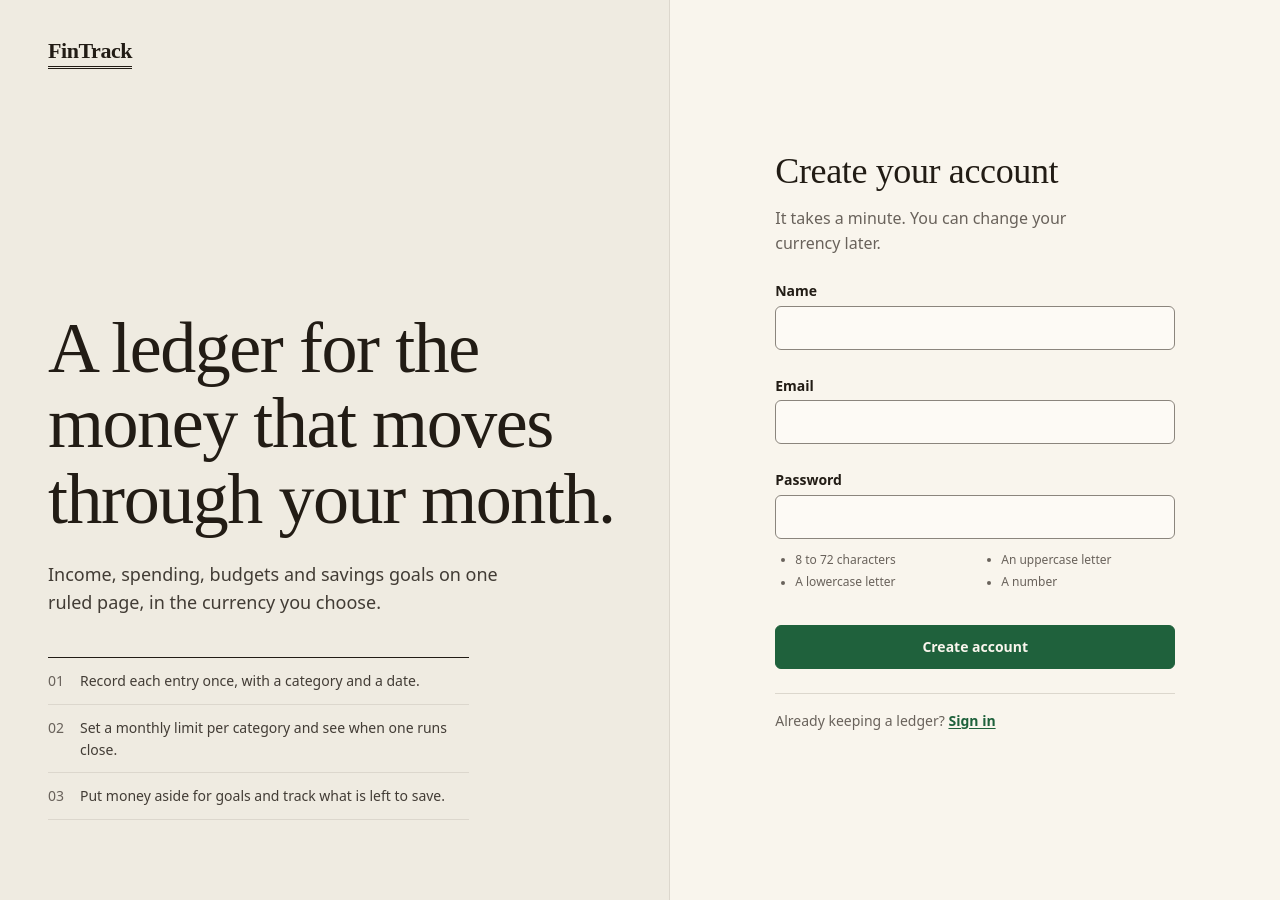
register form › shows a live password checklist and blocks a weak password
The image size is (1280, 900).
In the field labelled "Name": x=975, y=328 [775, 306, 1175, 350], type "Sam Tan"
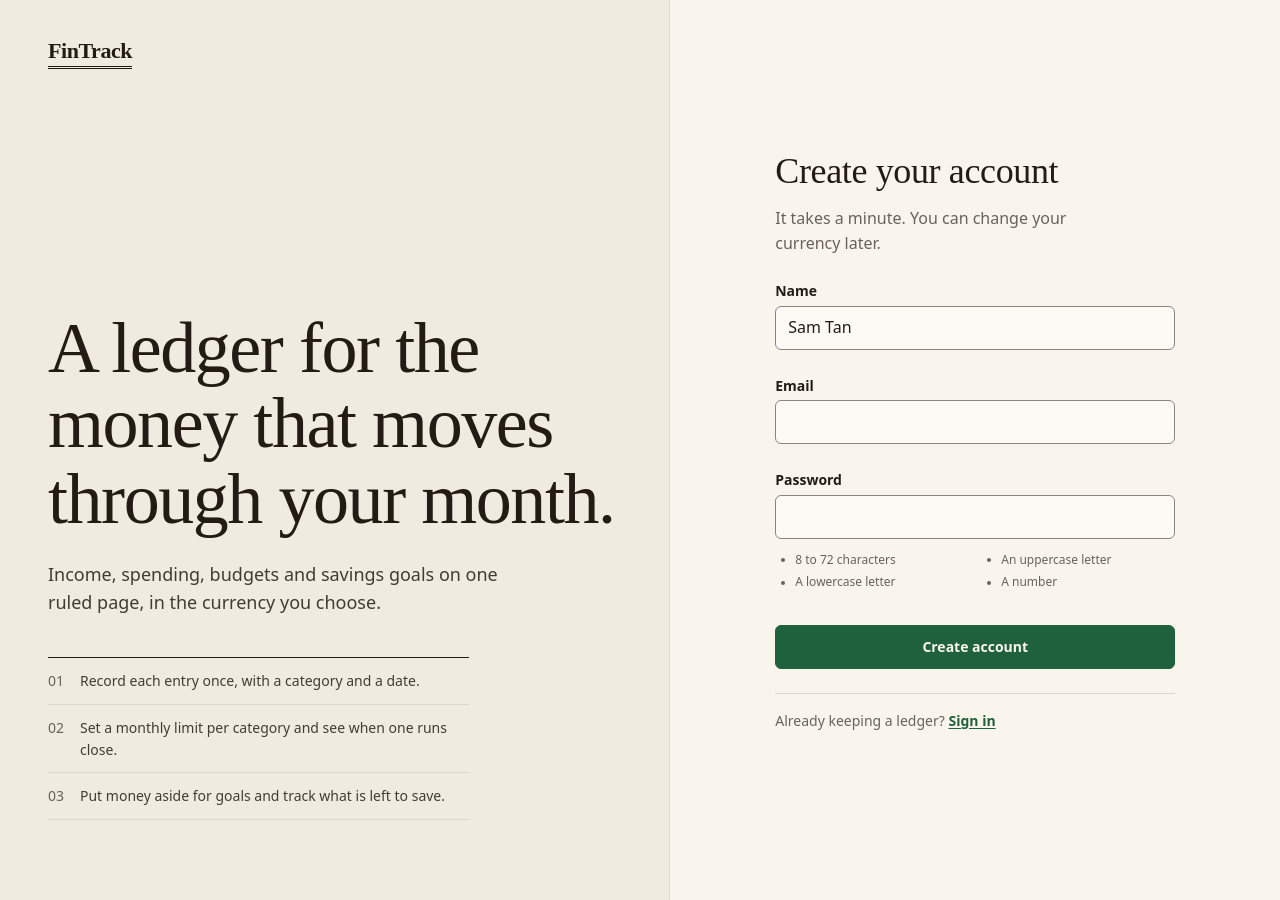
In the field labelled "Email": x=975, y=422 [775, 400, 1175, 444], type "sam@example.in"
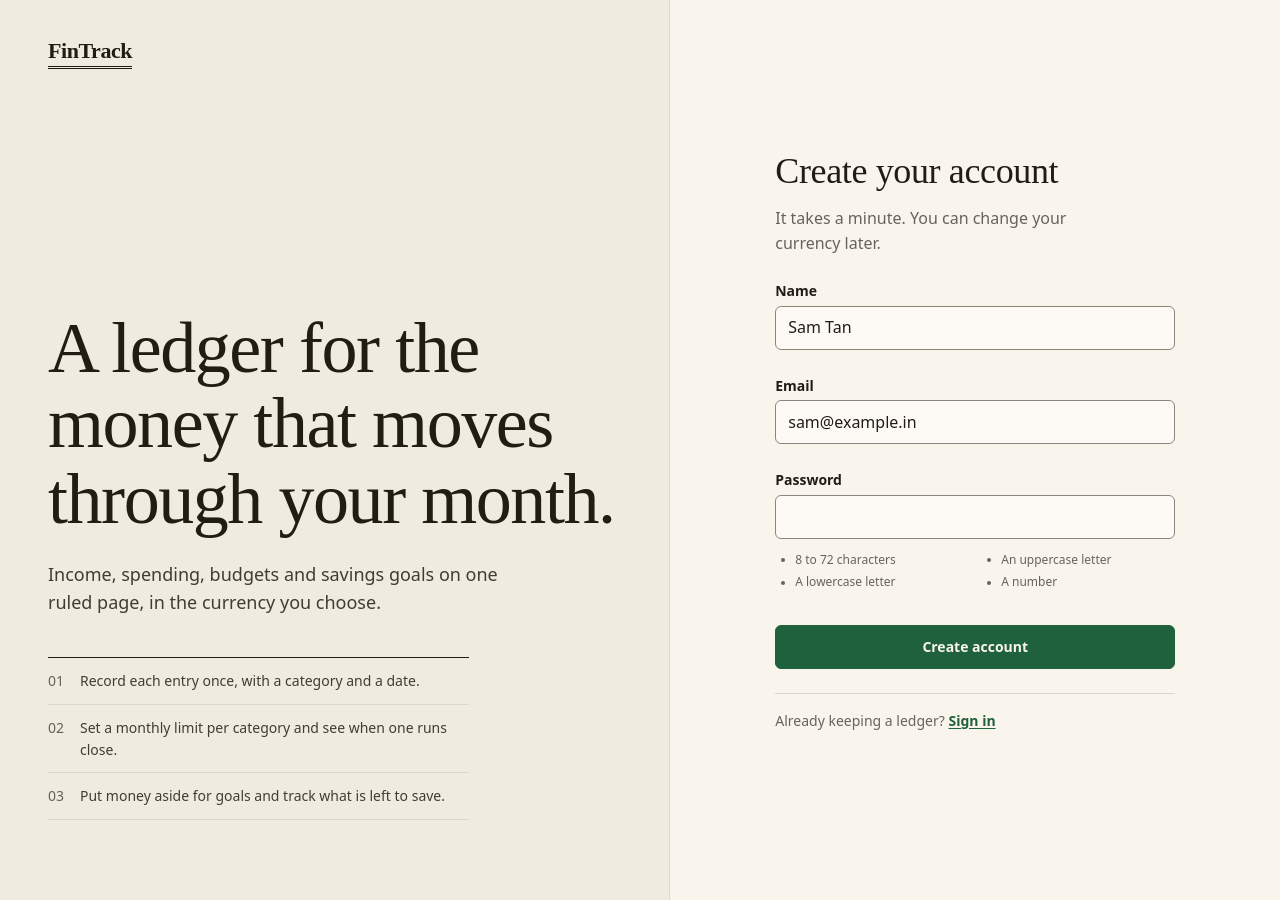
In the password field labelled "Password": x=975, y=517 [775, 495, 1175, 539], type "ledger"
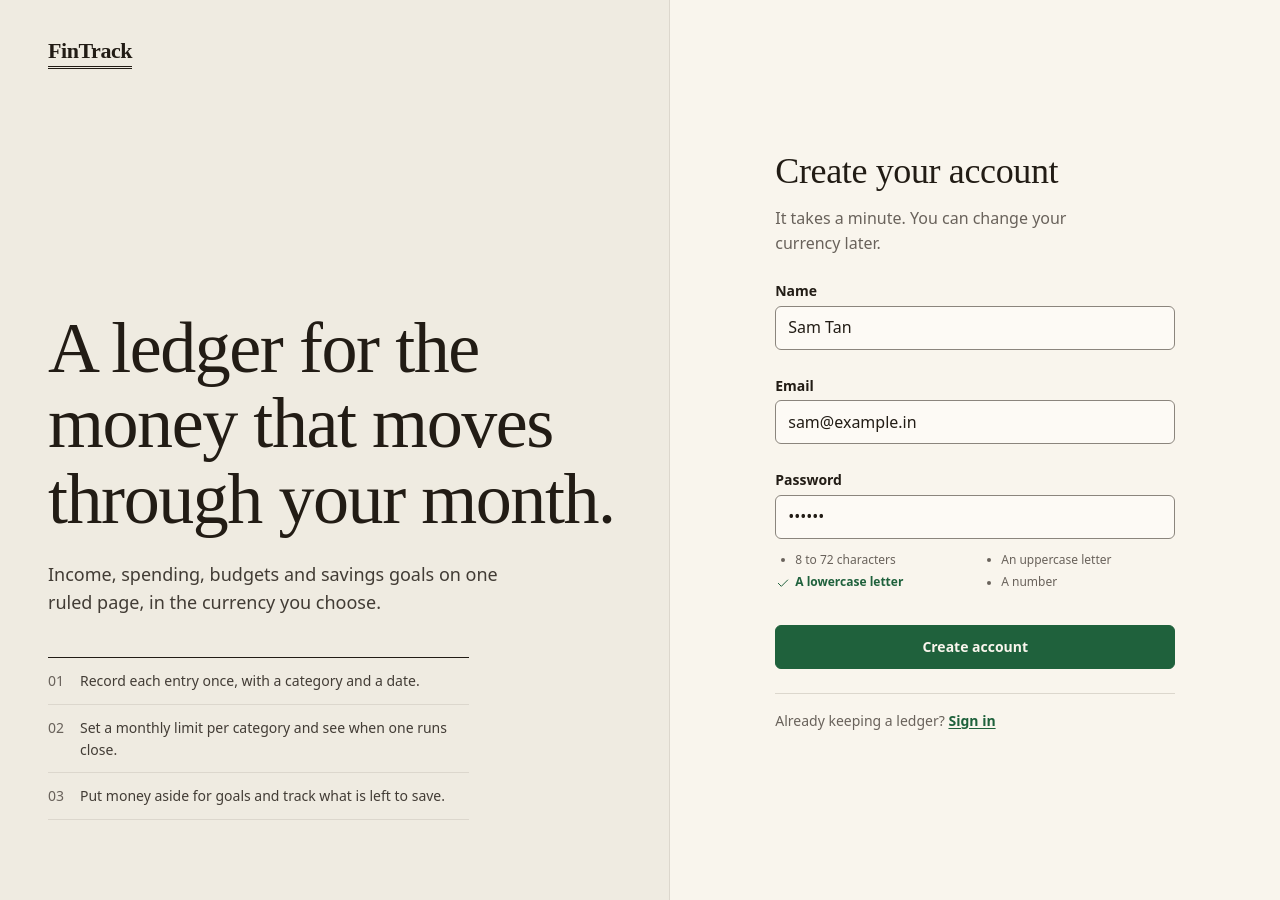
Result: the list item "A lowercase letter" has class "is-met" at [774, 573, 903, 599]
Click the button "Create account": x=975, y=647 [775, 625, 1175, 669]
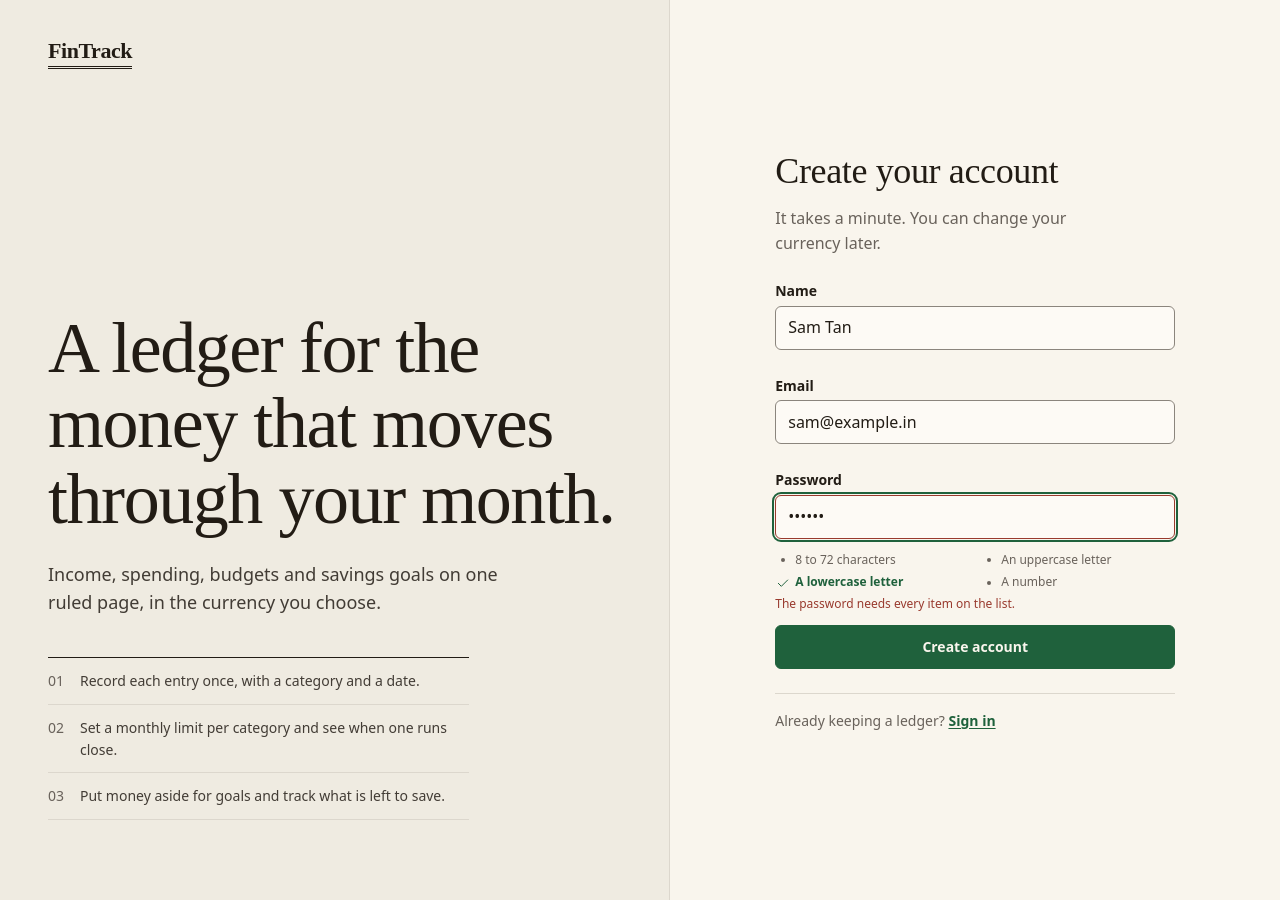
Result: the text "The password needs every item on the list." is shown at [775, 595, 1015, 612]
